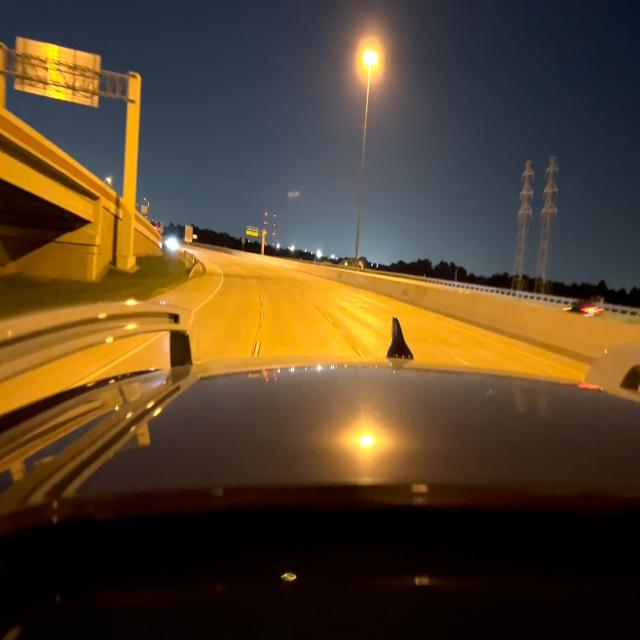back-of-sign: (15, 36, 101, 106)
